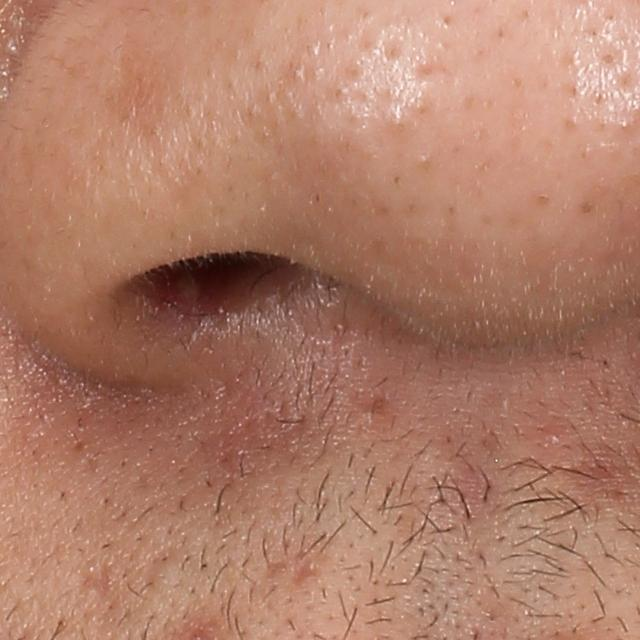atrophic_scar: (80, 561, 115, 600), (287, 555, 328, 585)
comedo: (385, 111, 410, 133)
